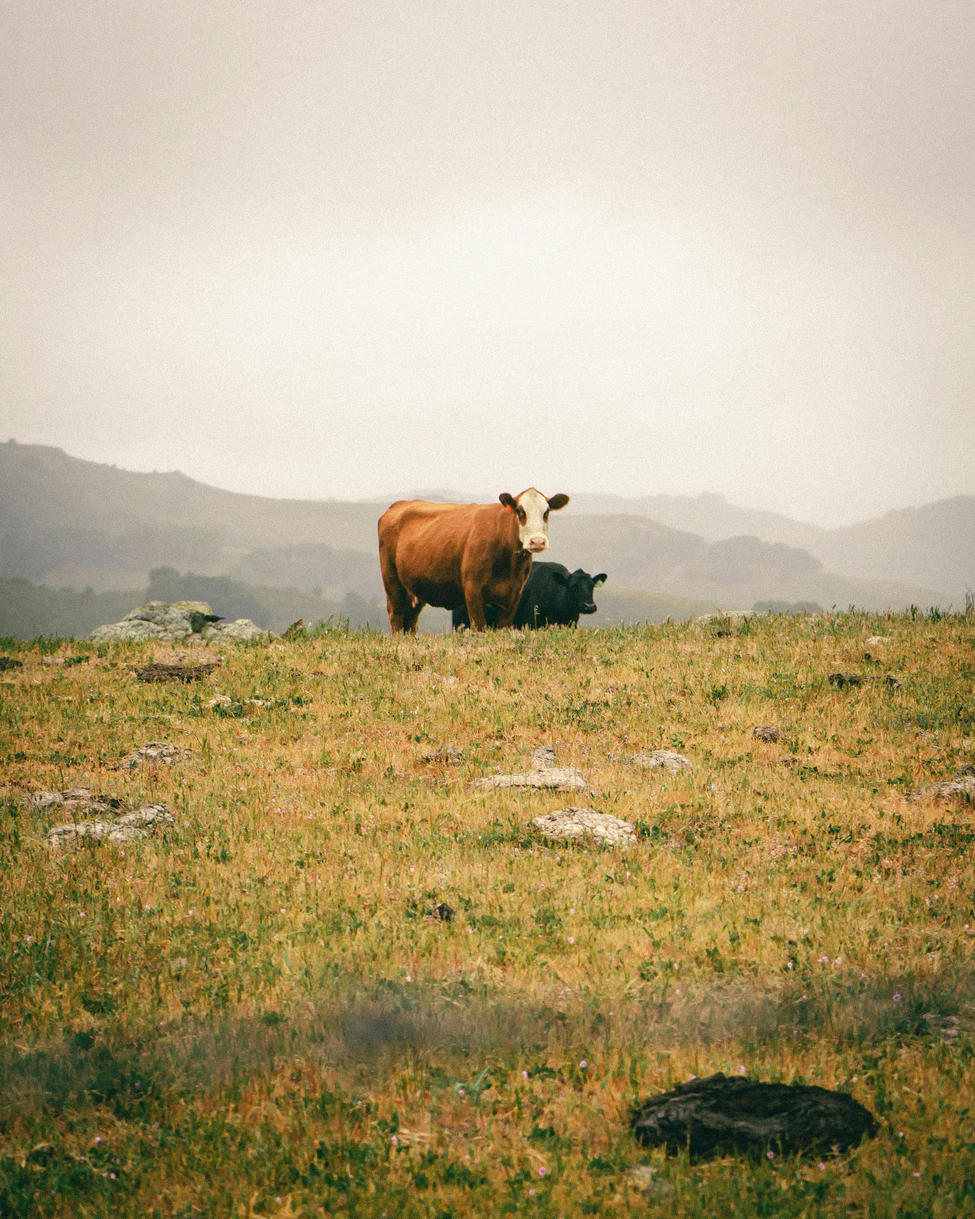bovino: (373, 482, 570, 634), (520, 562, 605, 625)
